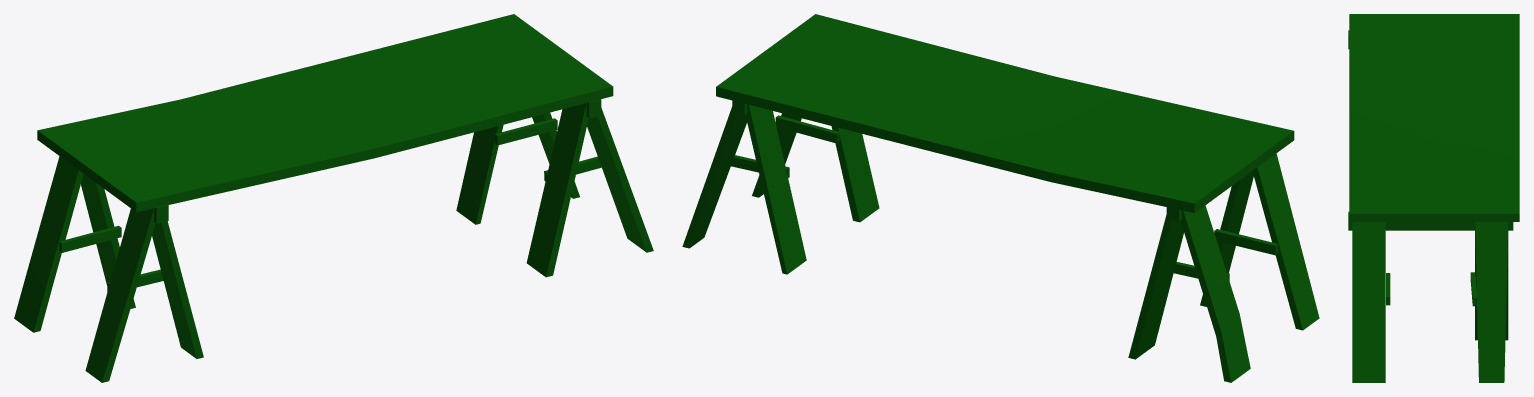
The model's file is Structure08.FBX.
3 views of the same model, side by side, from view 1: azimuth 30°, elevation 25°; view 2: azimuth 150°, elevation 25°; view 3: azimuth 270°, elevation 25° (orthographic). The views are drawn at different scales.
Visible parts, largest first — view 1: SM_structure08_0; view 2: SM_structure08_0; view 3: SM_structure08_0.
Boxes of the visible parts, box(x1,y1,x2,y2) form: SM_structure08_0: box(14, 14, 653, 382); SM_structure08_0: box(682, 14, 1319, 382); SM_structure08_0: box(1348, 14, 1519, 382).
Size of the model in its own units: 180 by 56.52 by 55.17.
